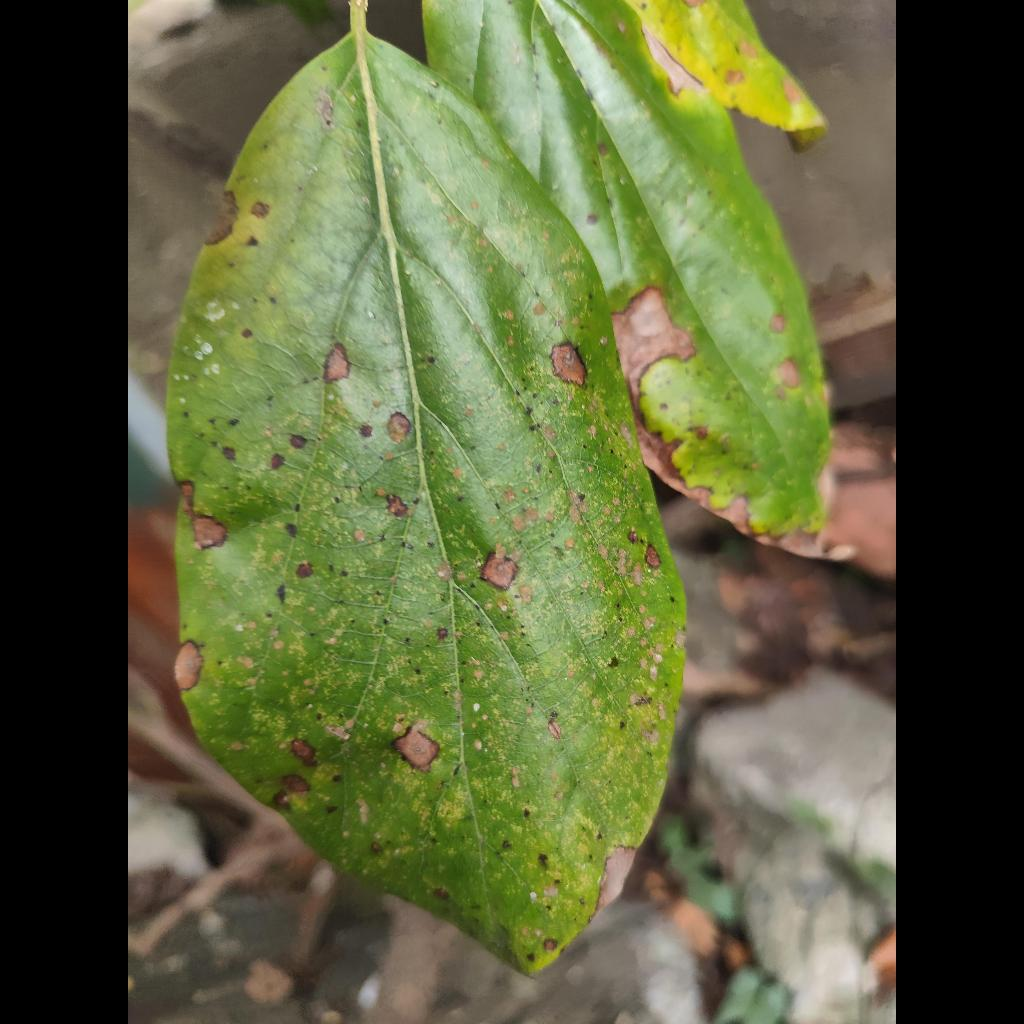antracnosis_hoja: (168, 14, 685, 972)
